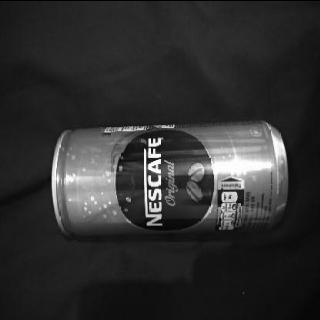alumunium_can: (50, 117, 292, 240)
